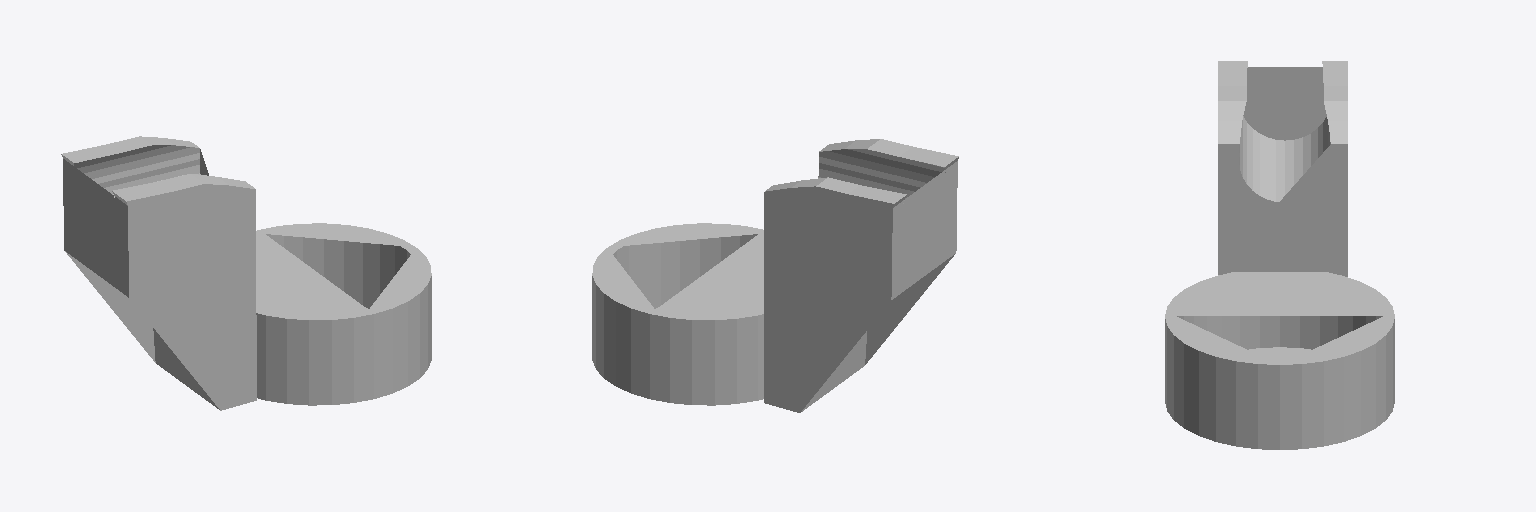
The model's file is tray_goal.obj.
3 views of the same model, side by side, from view 1: azimuth 30°, elevation 25°; view 2: azimuth 150°, elevation 25°; view 3: azimuth 270°, elevation 25° (orthographic).
Parts seen in each view (by area): view 1: Tray; view 2: Tray; view 3: Tray.
Part boxes in pixels (x1,y1,x2,y2): Tray: (61,136,431,410); Tray: (592,139,958,412); Tray: (1165,61,1394,449).
Bounding box in the file's own units: 3.22 × 2.23 × 2.